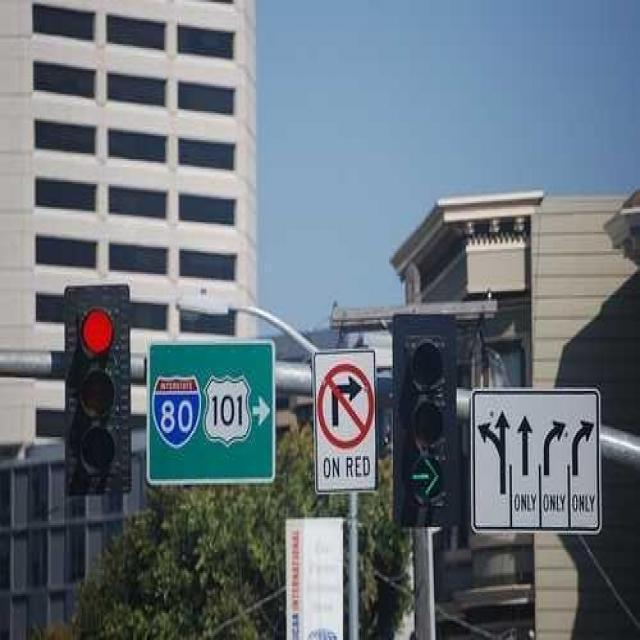red_light: (68, 294, 126, 484), (394, 330, 450, 516), (76, 297, 120, 362), (79, 357, 119, 428), (75, 421, 120, 484), (402, 326, 444, 393), (403, 392, 444, 449), (404, 459, 442, 509)
